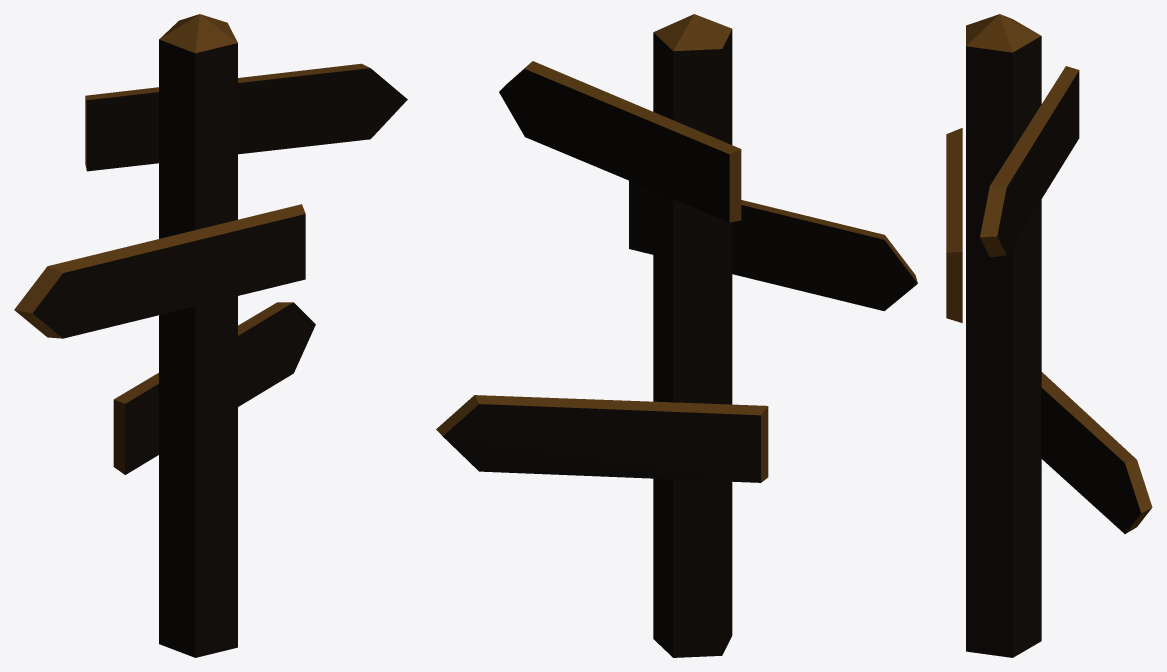
The model's file is Signpost_6.fbx.
The picture shows the model from 3 angles, left to right: view 1: azimuth 30°, elevation 25°; view 2: azimuth 150°, elevation 25°; view 3: azimuth 270°, elevation 25°; orthographic projection.
Parts seen in each view (by area): view 1: Signpost_6; view 2: Signpost_6; view 3: Signpost_6.
Part boxes in pixels (x1,y1,x2,y2): Signpost_6: (14, 14, 407, 657); Signpost_6: (436, 14, 917, 657); Signpost_6: (946, 14, 1152, 657).
Bounding box in the file's own units: 145 × 216 × 64.42.
